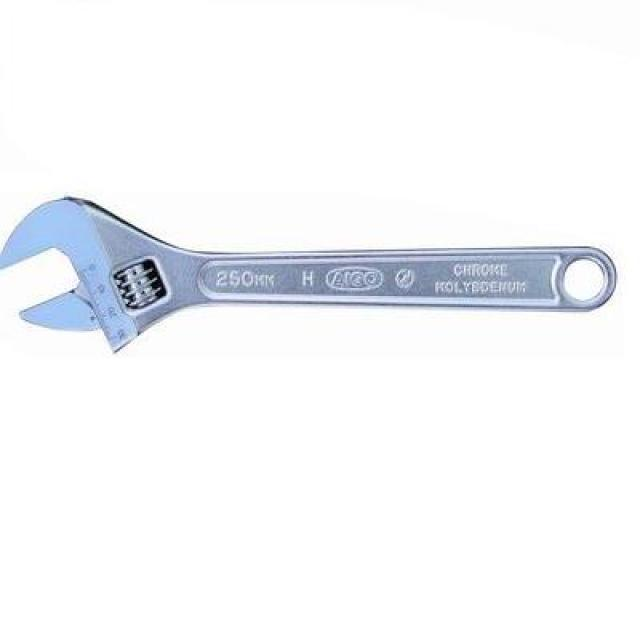wrench: (0, 188, 622, 362)
